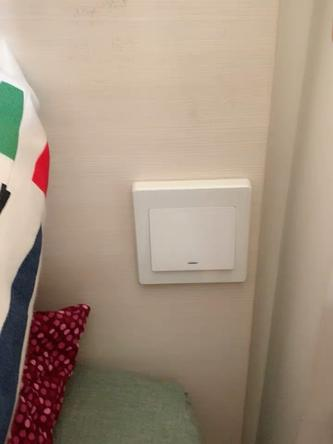switch: (153, 207, 241, 278)
